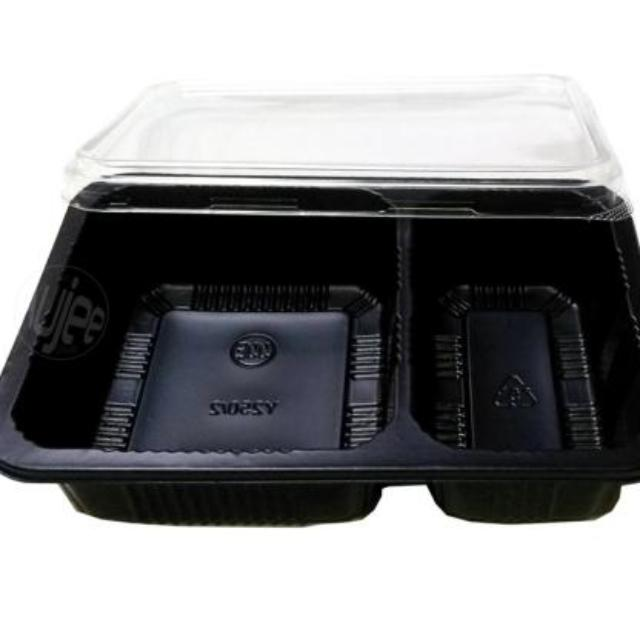plastic_box: (0, 180, 638, 530)
